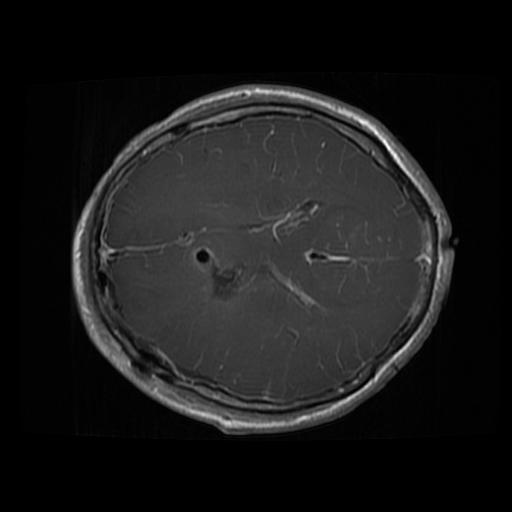glioma: (209, 264, 246, 300)
